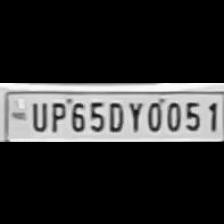0: (144, 97, 162, 131), (163, 97, 181, 131)
1: (204, 97, 222, 131)
5: (86, 96, 106, 132), (182, 97, 202, 131)
6: (66, 96, 86, 132)
D: (105, 98, 125, 132)
P: (46, 96, 66, 132)
U: (28, 98, 48, 130)
Y: (125, 98, 143, 132)
